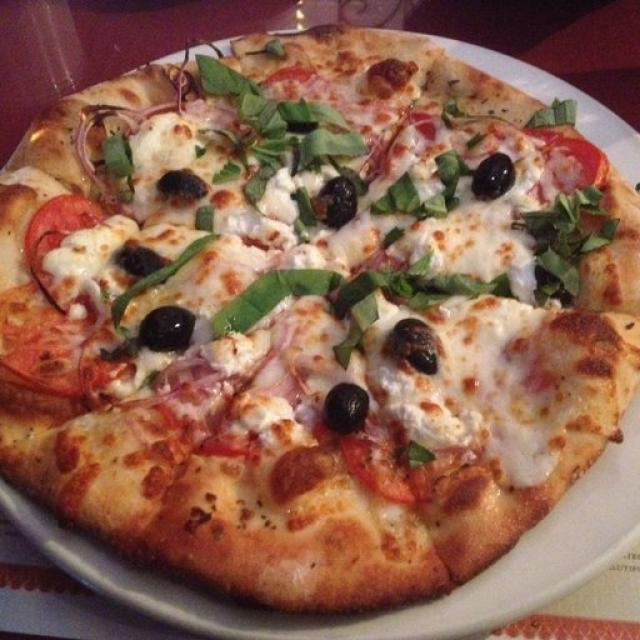Basil: (211, 262, 327, 338), (518, 189, 607, 287), (108, 236, 210, 301), (235, 122, 349, 178), (197, 57, 285, 129), (325, 249, 384, 352), (380, 263, 490, 310), (378, 158, 459, 218), (523, 91, 583, 125), (103, 131, 132, 183)
Cheese: (456, 306, 522, 438)
Olives: (395, 314, 438, 379), (141, 303, 188, 352), (116, 235, 167, 279), (312, 175, 352, 228), (159, 161, 209, 199), (478, 142, 513, 196), (332, 375, 365, 427)
Onions: (64, 103, 141, 159), (149, 359, 227, 414)
Pizza: (0, 28, 640, 612)
Tomato: (0, 313, 138, 404), (339, 432, 452, 503), (24, 180, 97, 286), (546, 136, 618, 198)
